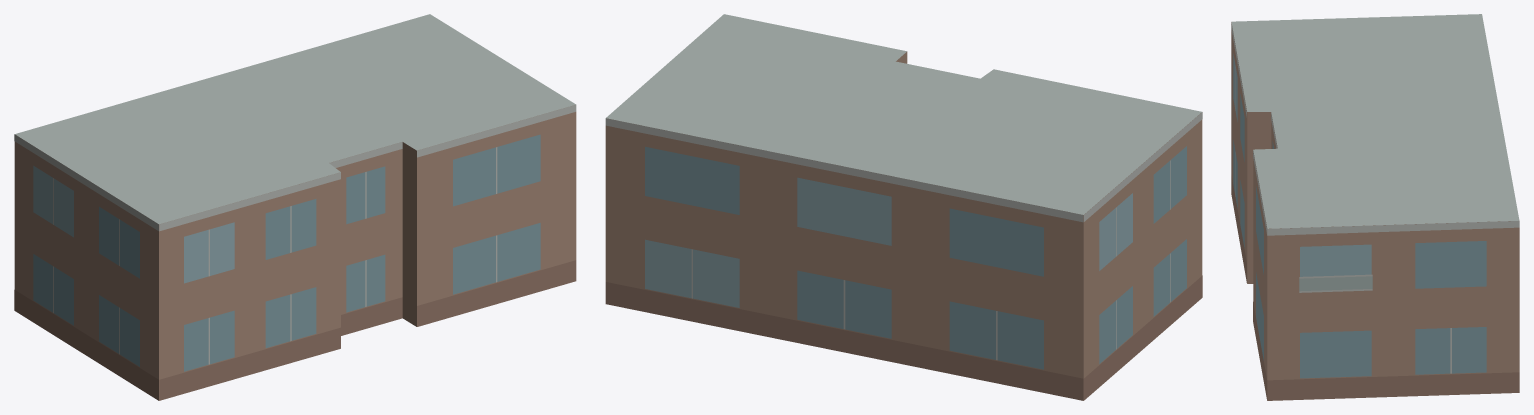
File: survey-upis-32915398.glb
3 renders of one model, left to right at view 1: azimuth 30°, elevation 25°; view 2: azimuth 150°, elevation 25°; view 3: azimuth 270°, elevation 25°, orthographic. The views are drawn at different scales.
Parts seen in each view (by area): view 1: survey-upis-32915398.tmp; view 2: survey-upis-32915398.tmp; view 3: survey-upis-32915398.tmp.
Part boxes in pixels (left/top/right/bottom): survey-upis-32915398.tmp: left=14, top=14, right=576, bottom=400; survey-upis-32915398.tmp: left=605, top=14, right=1202, bottom=400; survey-upis-32915398.tmp: left=1231, top=14, right=1519, bottom=400.
Size of the model in its own units: 16.35 by 6.1 by 9.27.
